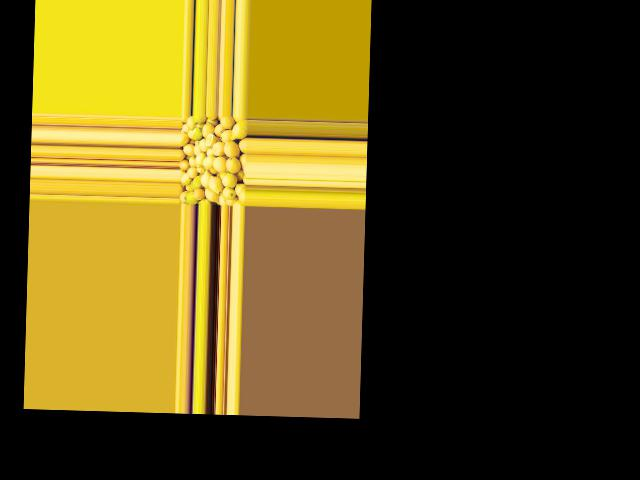lemon: (240, 153, 247, 167)
